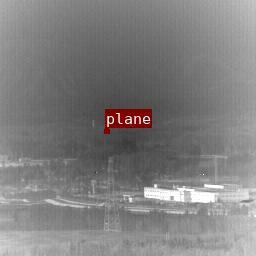plane: (105, 128, 108, 132)
